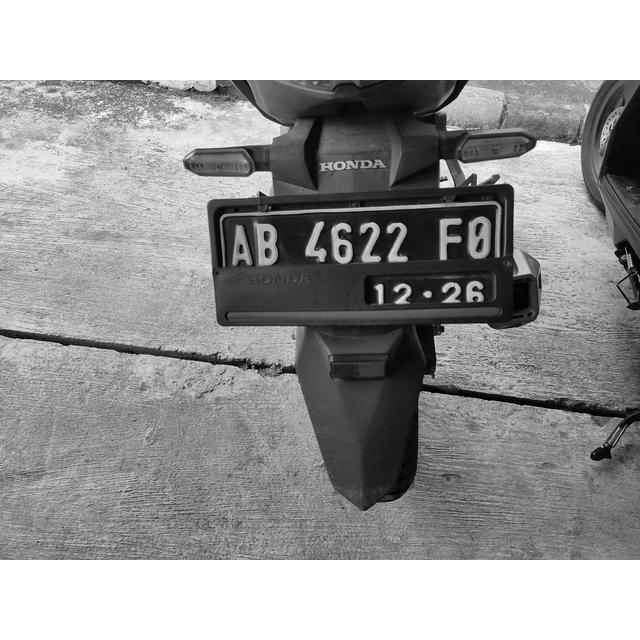license: (229, 213, 494, 306)
